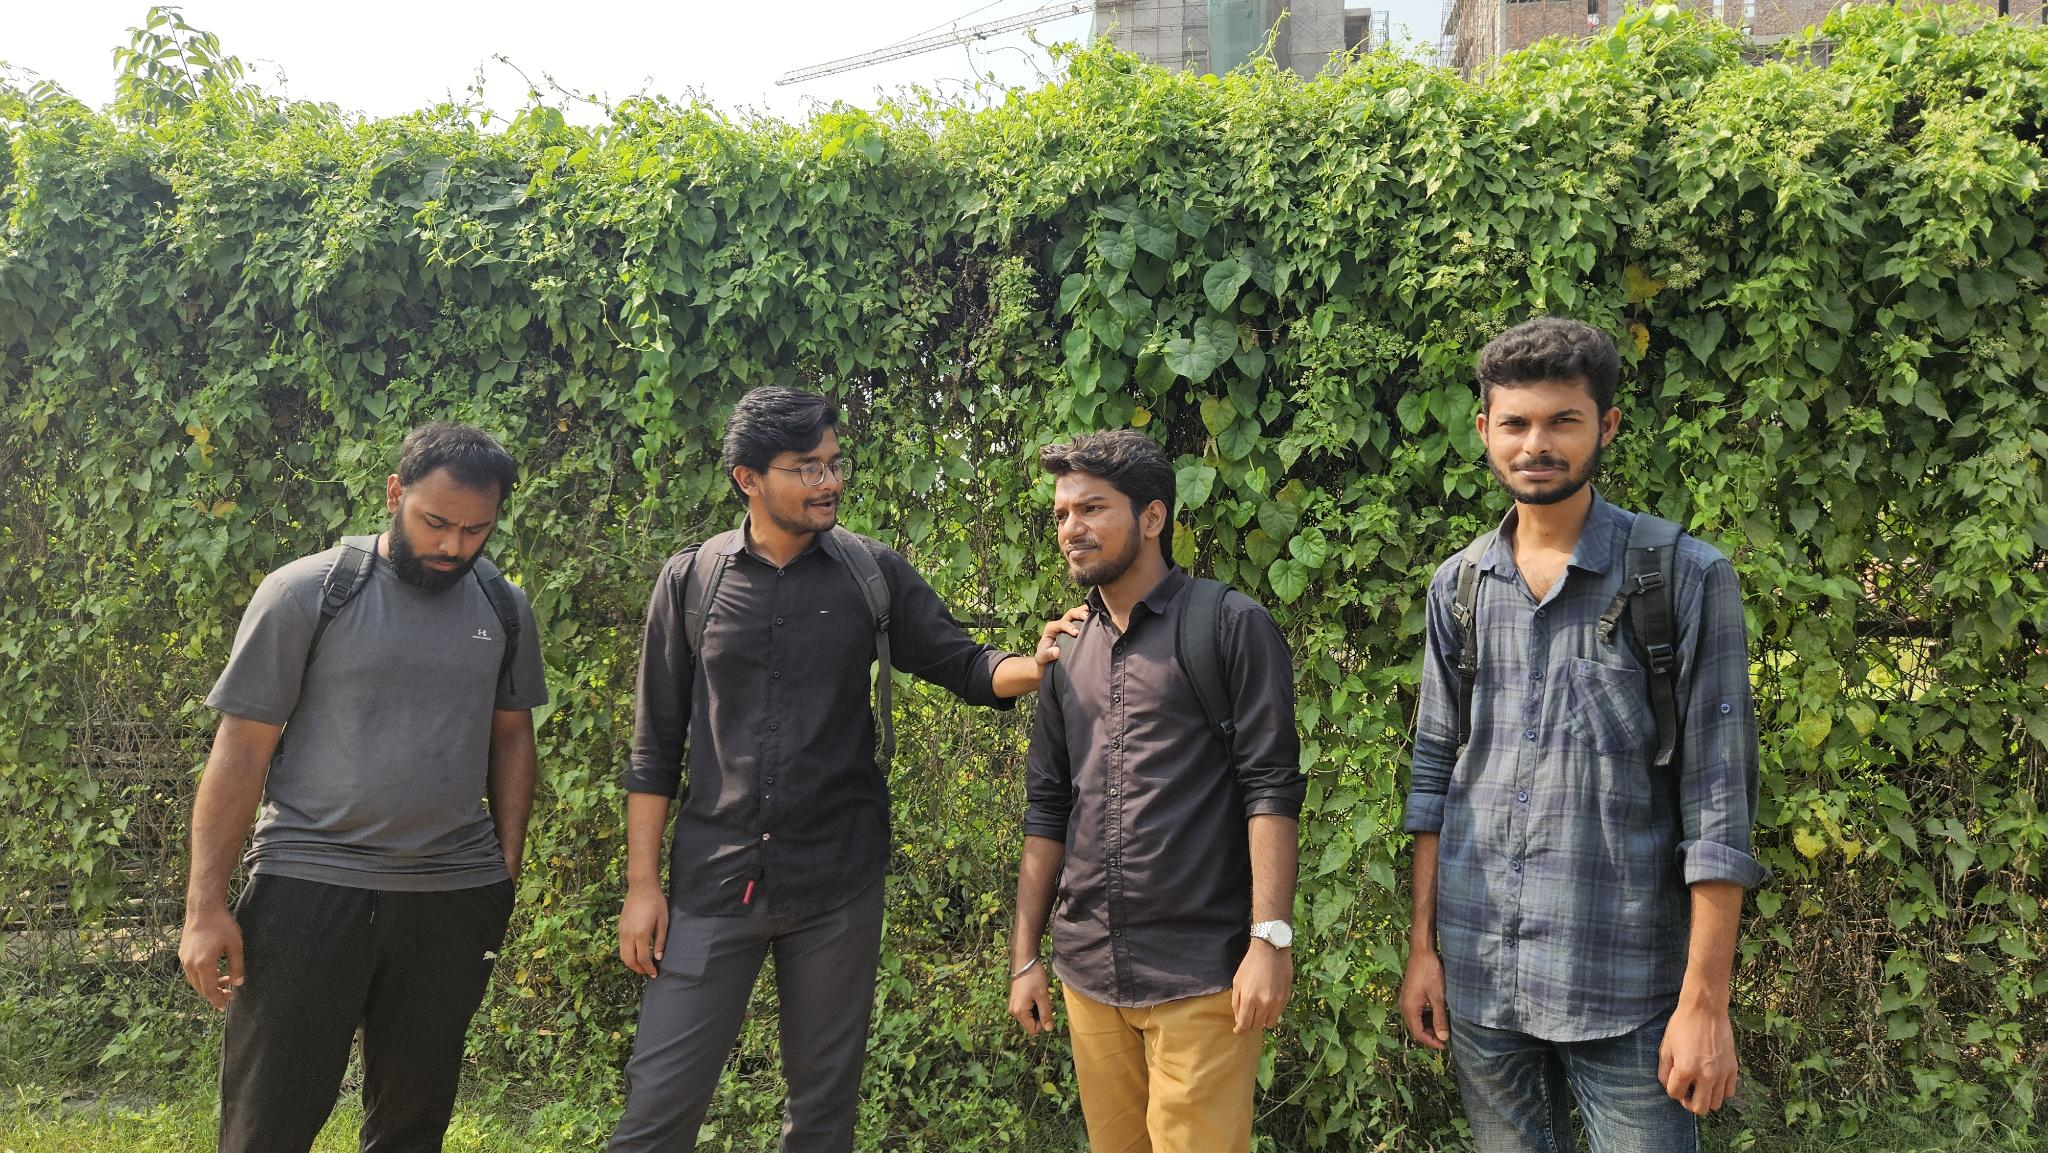nonSmoker: (606, 385, 1090, 1153), (1398, 316, 1769, 1153), (179, 423, 550, 1153), (1009, 429, 1308, 1153)
